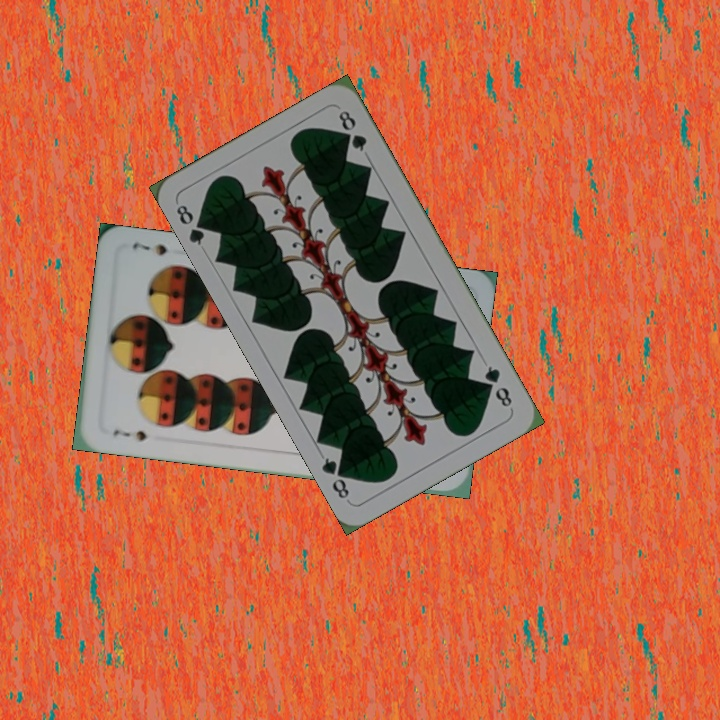G8: (172, 200, 212, 248), (480, 361, 515, 410)
S7: (109, 425, 149, 444)
